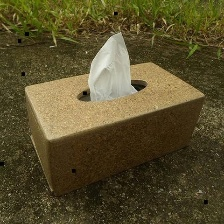tissue: (82, 28, 141, 104)
